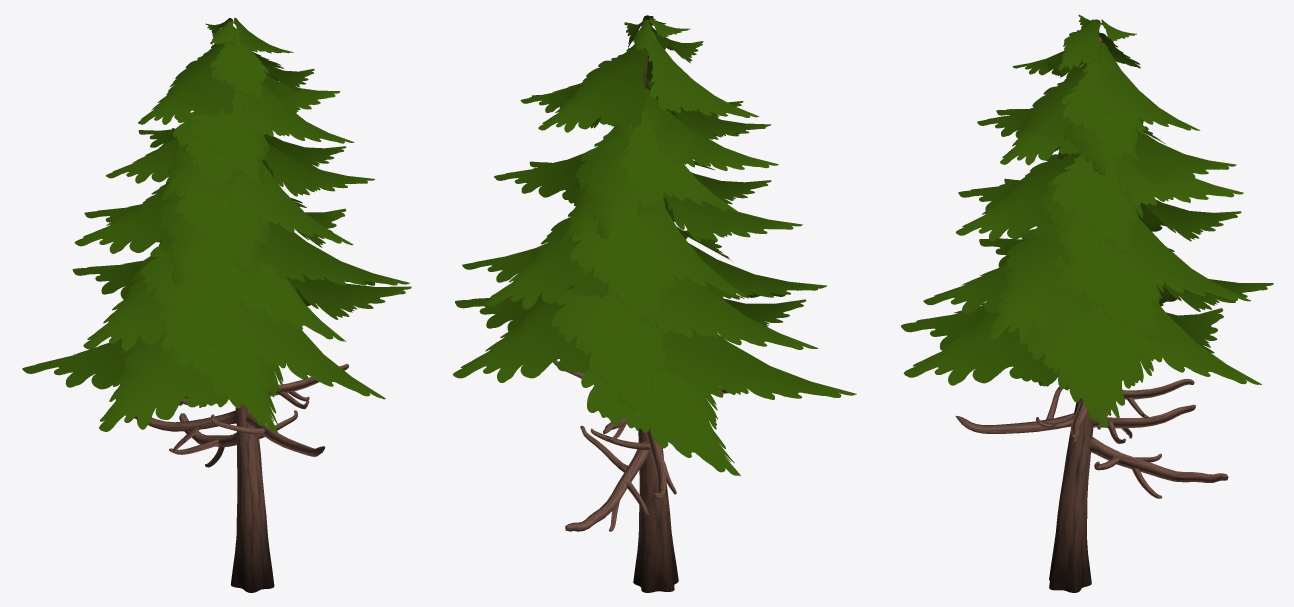
Rendered from Pine_1.gltf.
The picture shows the model from 3 angles, left to right: view 1: azimuth 30°, elevation 25°; view 2: azimuth 150°, elevation 25°; view 3: azimuth 270°, elevation 25°; orthographic projection. The views are drawn at different scales.
Visible parts, largest first — view 1: Pine_1; view 2: Pine_1; view 3: Pine_1.
Boxes of the visible parts, bbox=[...] form: Pine_1: bbox=[22, 18, 411, 592]; Pine_1: bbox=[453, 15, 856, 592]; Pine_1: bbox=[901, 14, 1273, 592].
Bounding box in the file's own units: 4.94 × 7.32 × 4.54.
2 materials, 2 textured.
